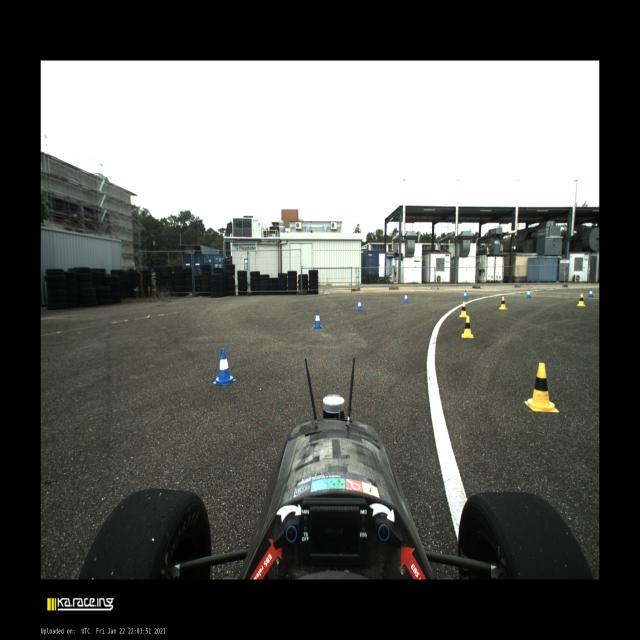blue_cone: (212, 348, 236, 385), (312, 310, 323, 329), (357, 298, 362, 311), (588, 288, 594, 298), (526, 289, 532, 298), (463, 290, 468, 299), (404, 292, 408, 303)
yellow_cone: (525, 363, 559, 412), (462, 317, 474, 338), (459, 301, 467, 317), (499, 296, 507, 310), (577, 294, 585, 306)
